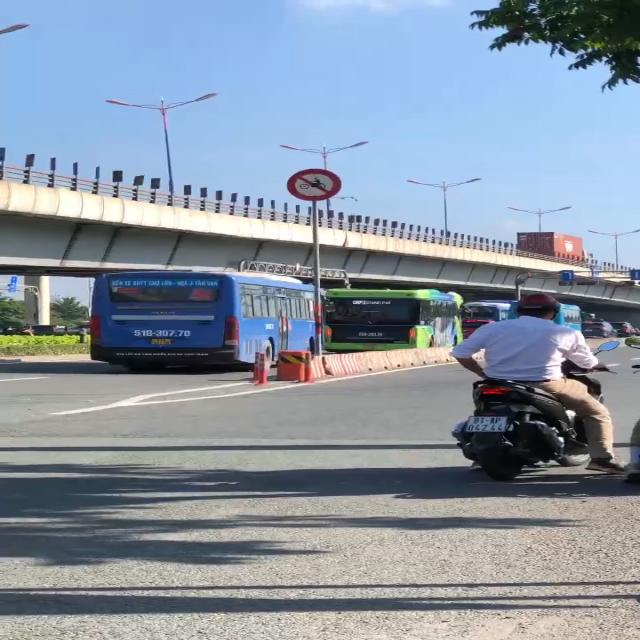Bien bao cam xe may: (278, 164, 345, 203)
